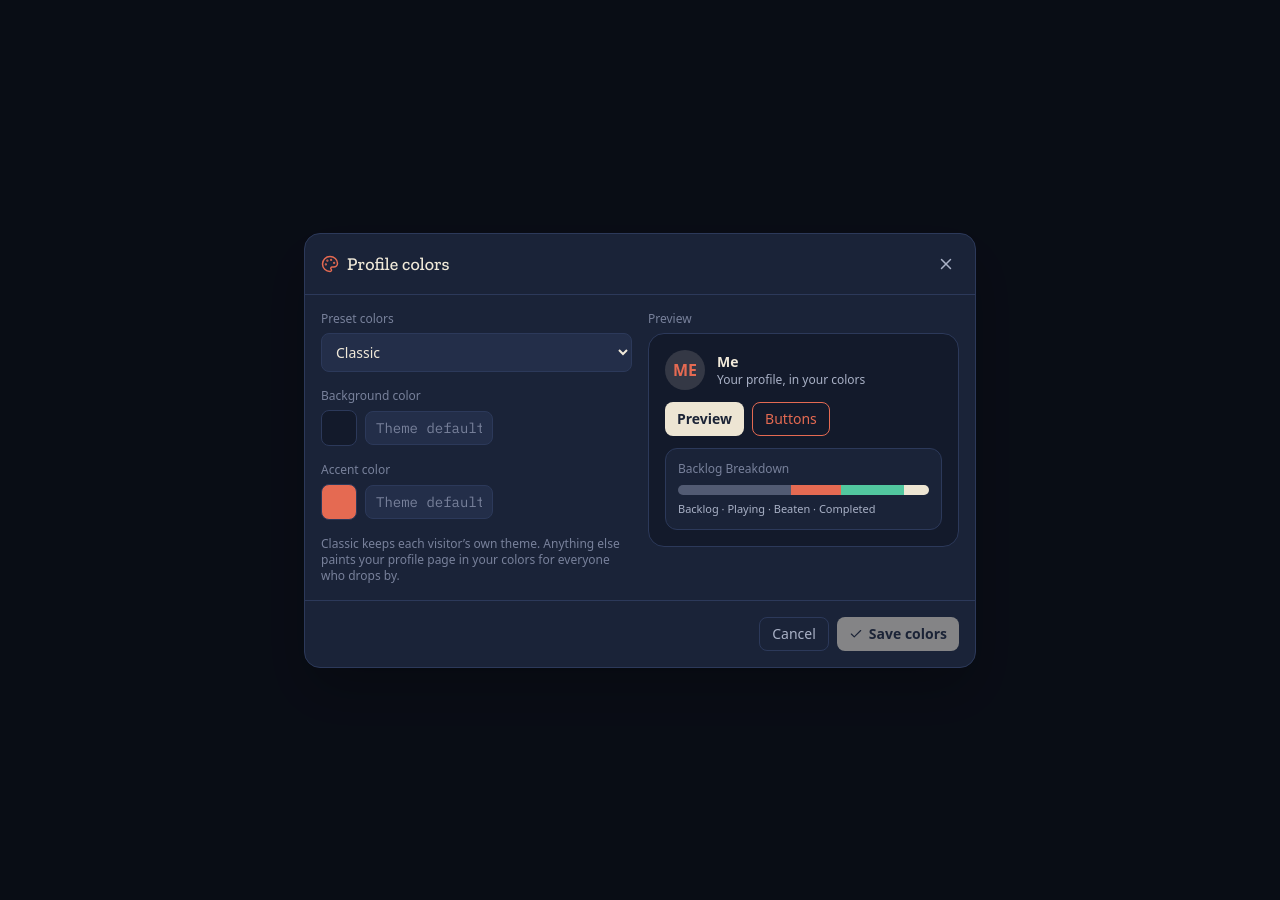
Scenario: ProfileColorsModal › selecting a preset fills both colors and repaints the preview
The width and height of the screenshot is (1280, 900).
Select "Mana" in the dropdown labelled "Preset colors". click: point(476, 352)
box: [321,332,632,372]
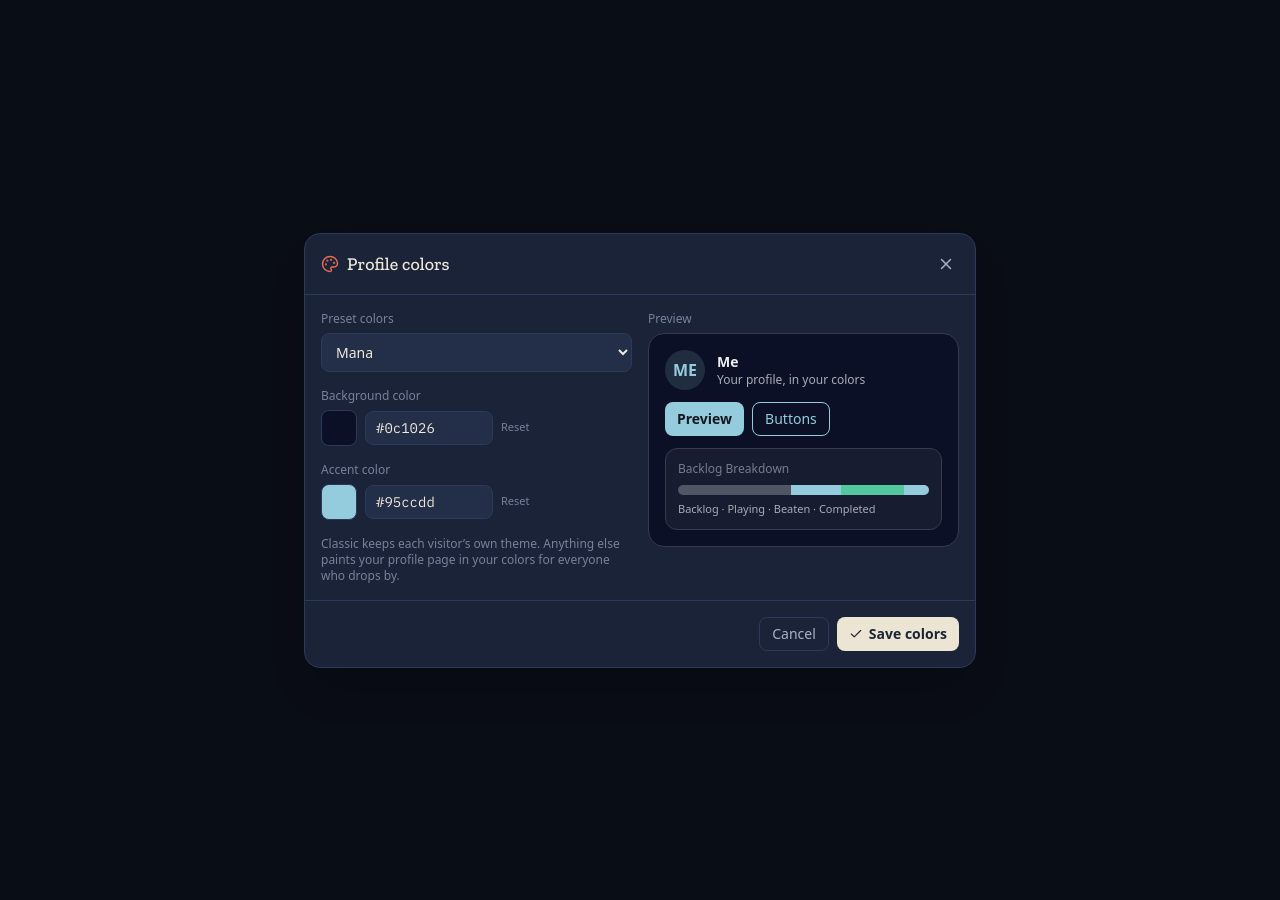
Result: the field named "Background color hex" holds "#0c1026" at [365,410,493,444]
Result: the field named "Accent color hex" holds "#95ccdd" at [365,484,493,518]
